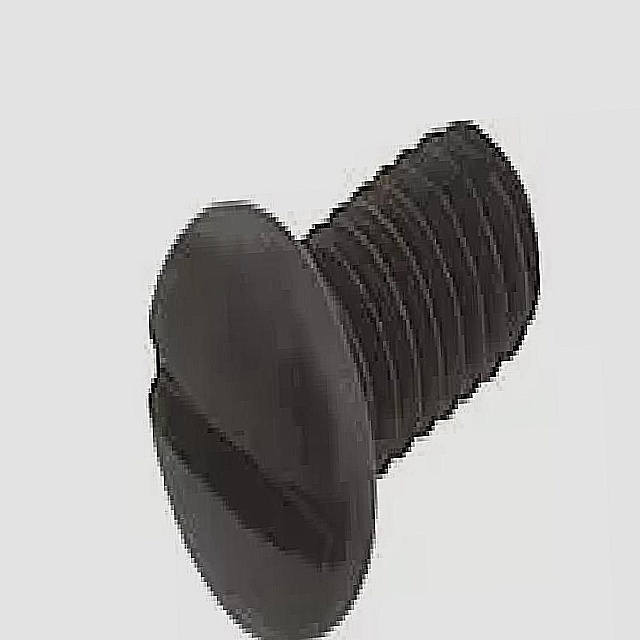duz: (141, 192, 383, 640)
